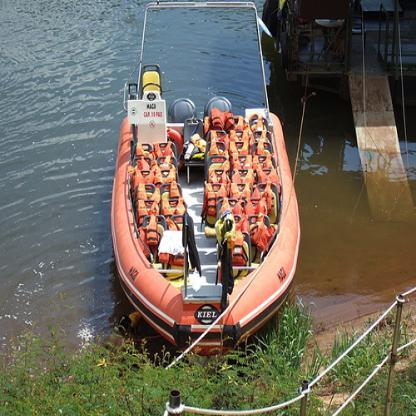boat: (107, 89, 306, 359)
